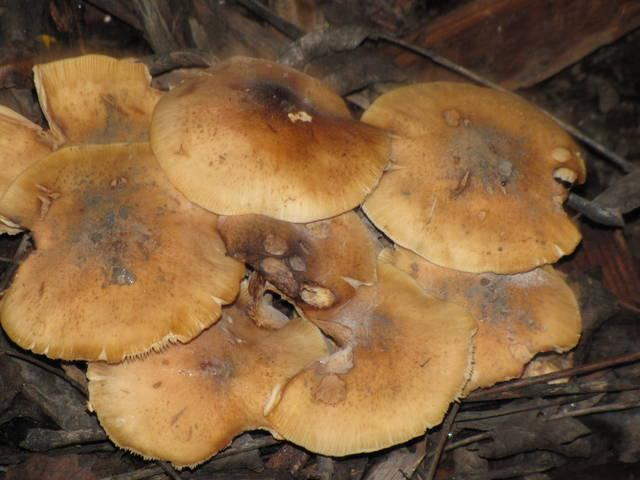Edible Mushroom: (0, 50, 589, 468)
